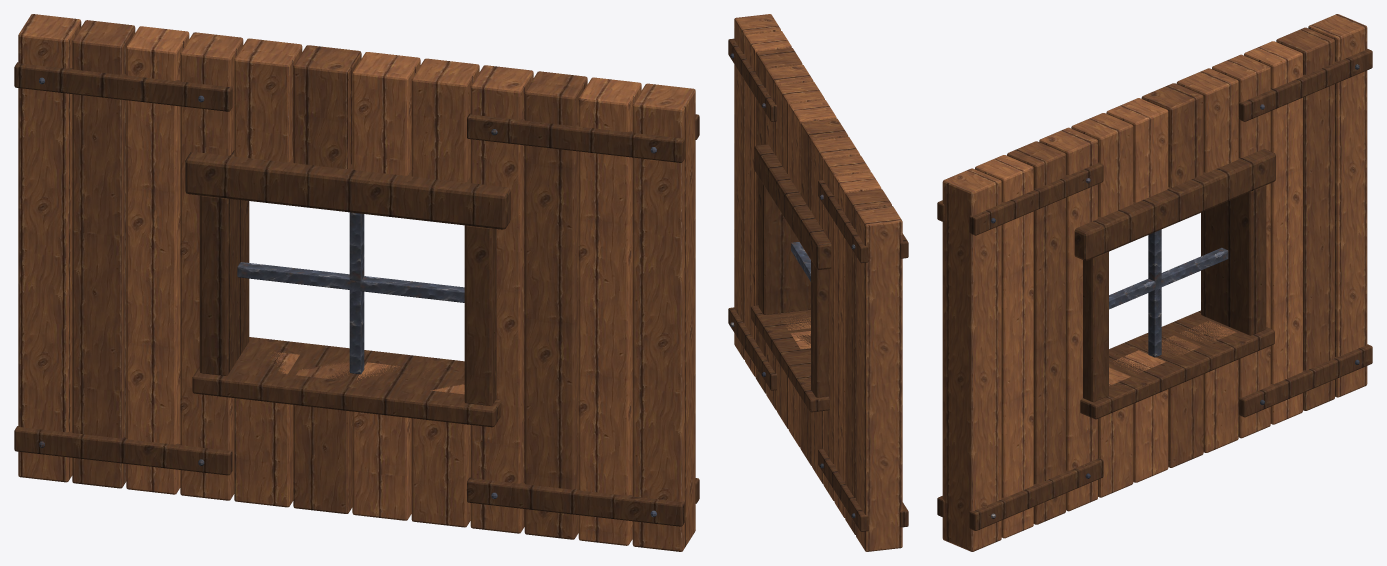
Rendered from window_diagonal__plank_root.glb.
3 views of the same model, side by side, from view 1: azimuth 30°, elevation 25°; view 2: azimuth 150°, elevation 25°; view 3: azimuth 270°, elevation 25° (orthographic). The views are drawn at different scales.
Visible parts, largest first — view 1: model; view 2: model; view 3: model.
Part boxes in pixels (x1,y1,x2,y2): model: (14, 14, 699, 551); model: (728, 14, 908, 551); model: (937, 14, 1372, 551).
Size of the model in its own units: 2.19 by 2 by 2.19.
7 materials, 7 textured.
